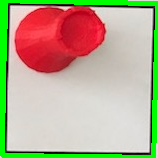Red Castle: (12, 4, 110, 79)
